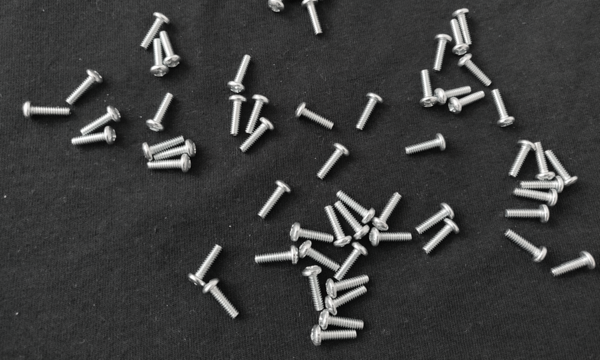shortscrew: (504, 228, 548, 264), (203, 278, 240, 320), (188, 244, 223, 287), (65, 68, 103, 105), (257, 180, 292, 220), (423, 219, 461, 255), (334, 241, 369, 280), (326, 285, 368, 317), (316, 143, 351, 181), (336, 190, 375, 224), (336, 201, 370, 240), (372, 192, 403, 233), (299, 241, 340, 272), (80, 106, 122, 136), (551, 251, 597, 278), (139, 11, 170, 51), (240, 117, 274, 153), (416, 203, 455, 234), (547, 150, 578, 189), (325, 206, 352, 248), (508, 140, 537, 179), (295, 102, 335, 130), (142, 135, 184, 161), (459, 54, 492, 87), (356, 92, 383, 132), (147, 93, 173, 133), (327, 275, 370, 299), (290, 222, 334, 245), (302, 266, 324, 312), (311, 326, 357, 347), (22, 101, 71, 120), (405, 134, 447, 156), (320, 310, 364, 331), (71, 127, 117, 147), (228, 54, 251, 94), (247, 95, 270, 135), (154, 140, 196, 161), (505, 205, 551, 224), (449, 91, 487, 114), (370, 227, 413, 247), (493, 89, 515, 128), (254, 246, 299, 265), (160, 30, 182, 68), (148, 154, 192, 173), (533, 142, 555, 180), (519, 176, 565, 194), (303, 0, 325, 37), (514, 188, 558, 206), (150, 38, 169, 78), (434, 33, 453, 72), (453, 8, 473, 45), (229, 95, 247, 136), (434, 87, 472, 106), (451, 19, 470, 57), (420, 70, 438, 109), (267, 0, 292, 12), (287, 0, 325, 2)
